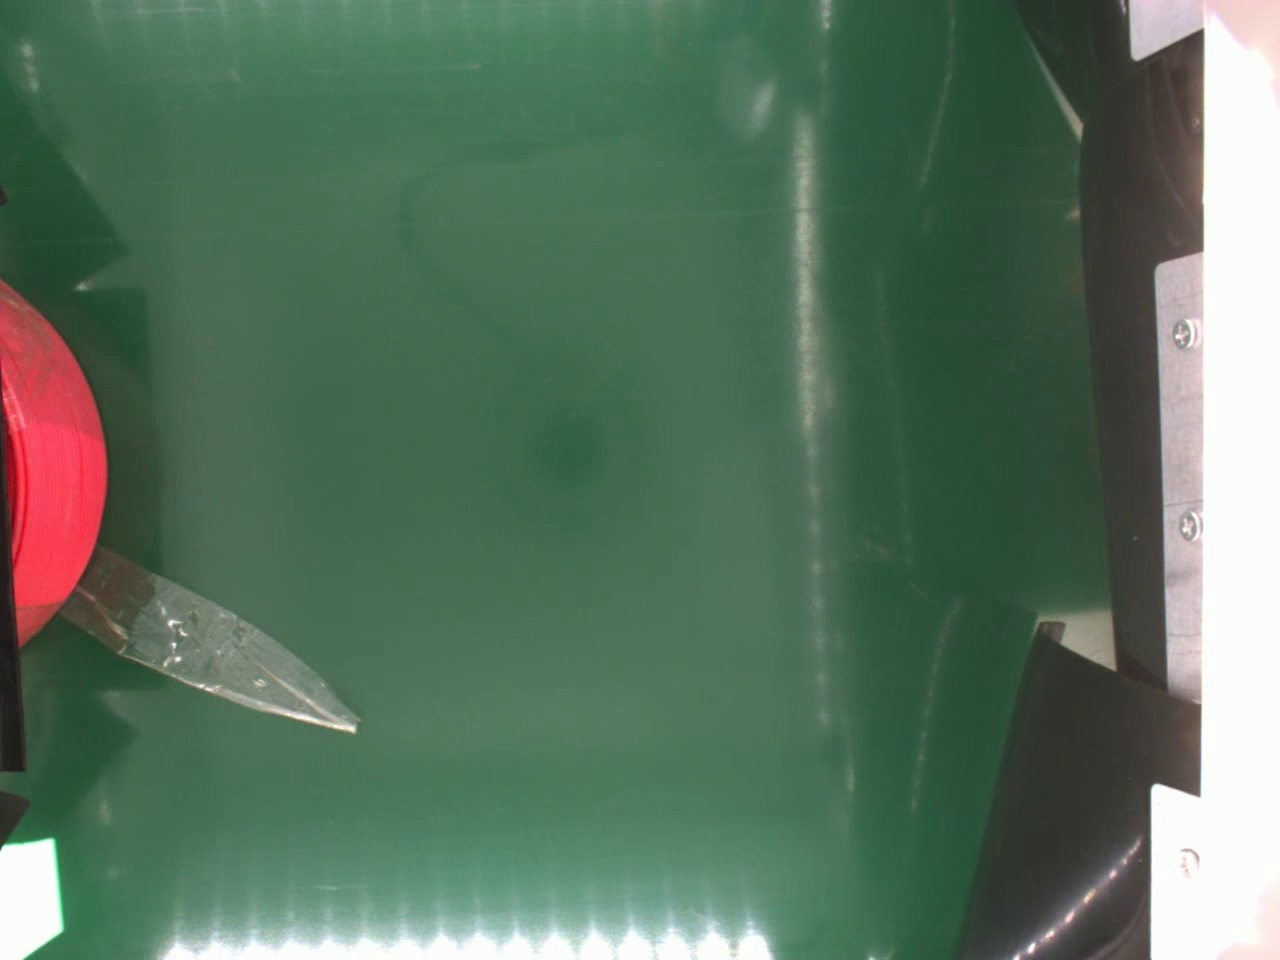red: (0, 273, 110, 647)
